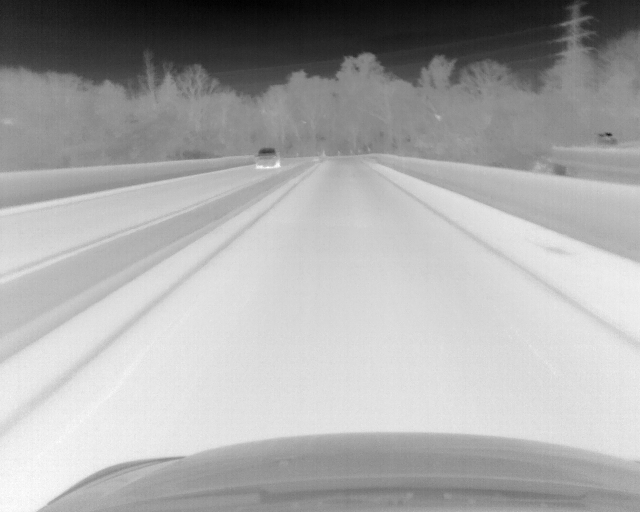car: (254, 146, 280, 169)
